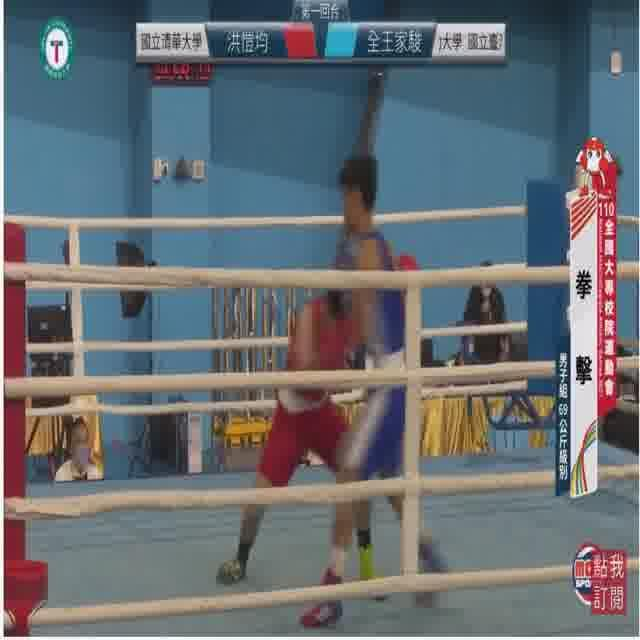blue-player: (301, 148, 453, 640)
red-player: (212, 244, 423, 604)
